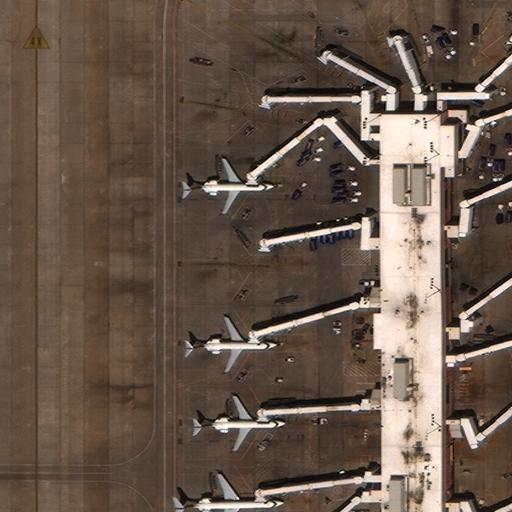Medium Civil Transport: (182, 316, 284, 374), (190, 395, 287, 452), (179, 158, 276, 214), (171, 473, 288, 512)
